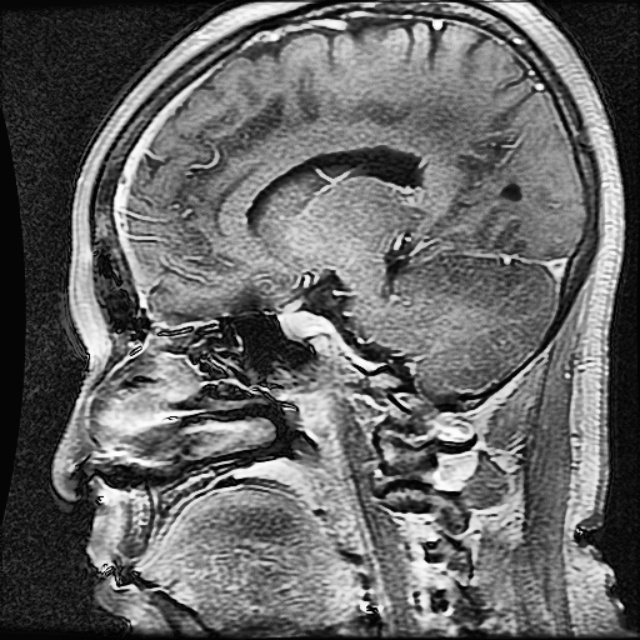Pituitary: (278, 310, 334, 342)
